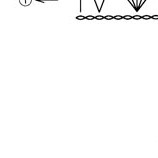double treble: (73, 0, 156, 36)
enseble_chain: (129, 0, 146, 10)
